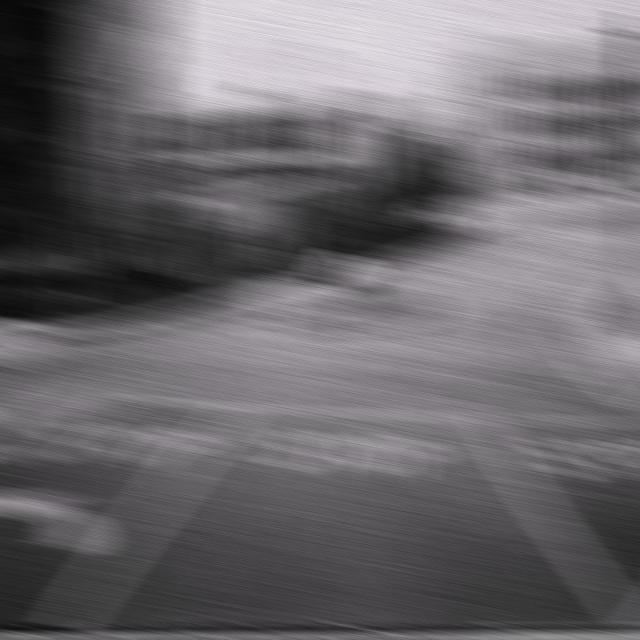stop: (44, 141, 98, 217)
